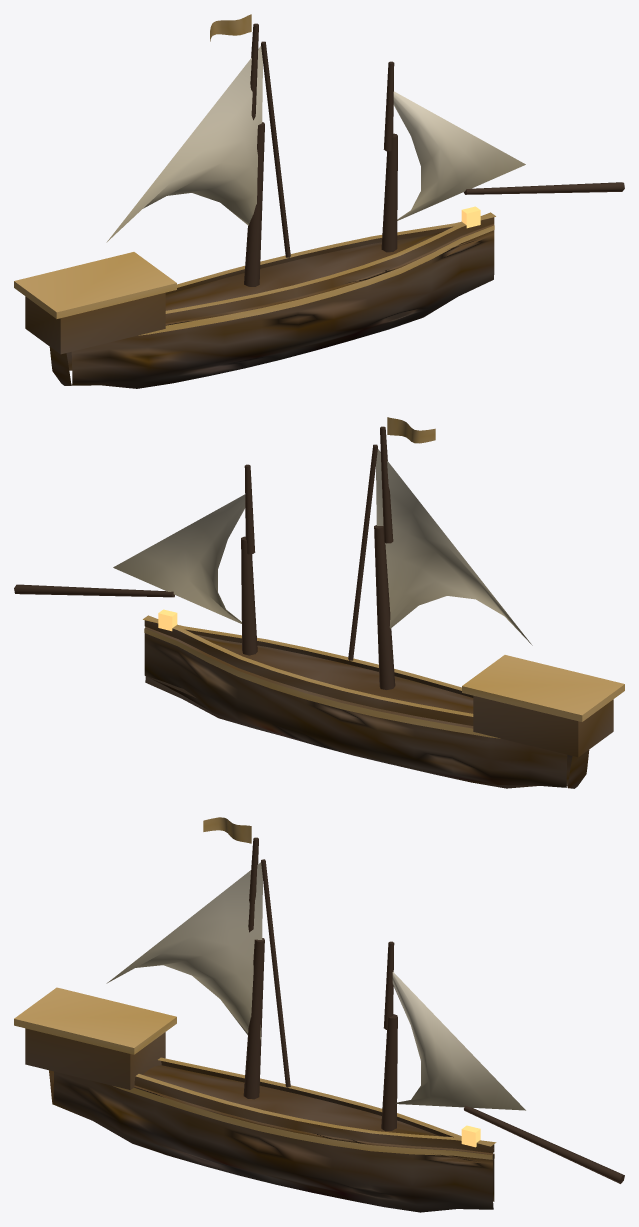
Rendered from garden-hero-cutter.glb.
The picture shows the model from 3 angles, top to bottom: view 1: azimuth 30°, elevation 25°; view 2: azimuth 150°, elevation 25°; view 3: azimuth 330°, elevation 25°; orthographic projection.
Visible parts, largest first — view 1: wood-hull, sail-hull, trim-hull, spar-hull; view 2: wood-hull, sail-hull, trim-hull, spar-hull; view 3: wood-hull, sail-hull, trim-hull, spar-hull.
Boxes of the visible parts, x1,y1,x2,y2 form: wood-hull: (25,14,495,388); sail-hull: (106,46,525,242); trim-hull: (14,225,494,335); spar-hull: (244,23,624,286); wood-hull: (143,417,613,788); sail-hull: (113,449,532,645); trim-hull: (144,628,624,738); spar-hull: (14,426,395,689); wood-hull: (25,817,496,1212); sail-hull: (106,862,525,1110); trim-hull: (14,987,494,1159); spar-hull: (243,837,624,1183).
Size of the model in its own units: 11.74 by 6.67 by 1.48.
